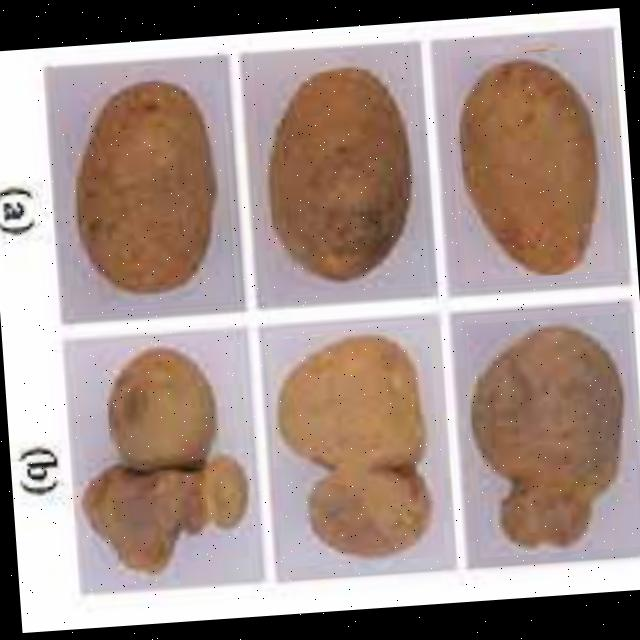Damaged potato: (65, 339, 261, 596), (249, 41, 425, 308), (56, 68, 234, 320), (461, 312, 640, 557), (264, 328, 444, 568), (449, 47, 612, 281)
